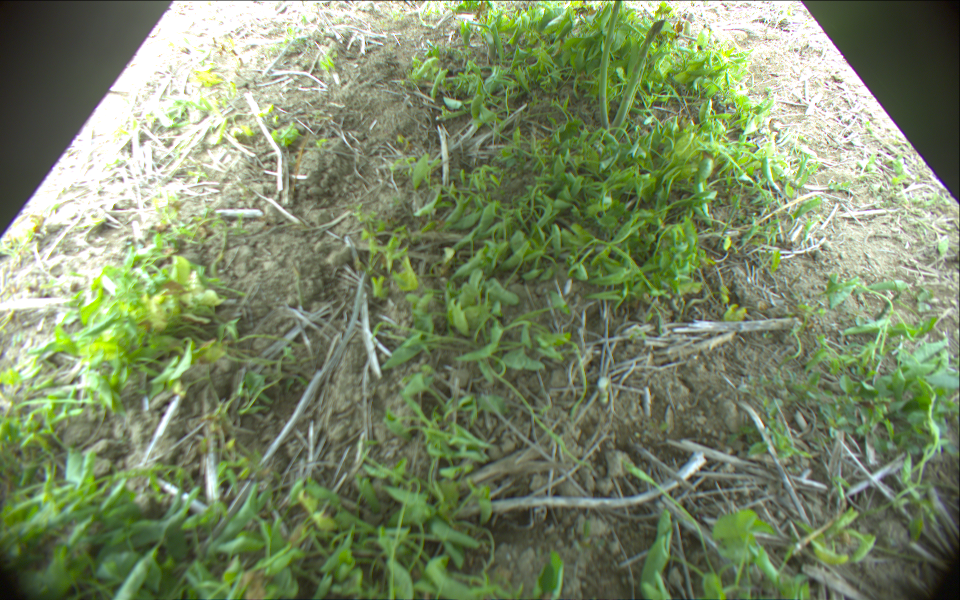aspa: (610, 20, 663, 134), (599, 1, 625, 136)
